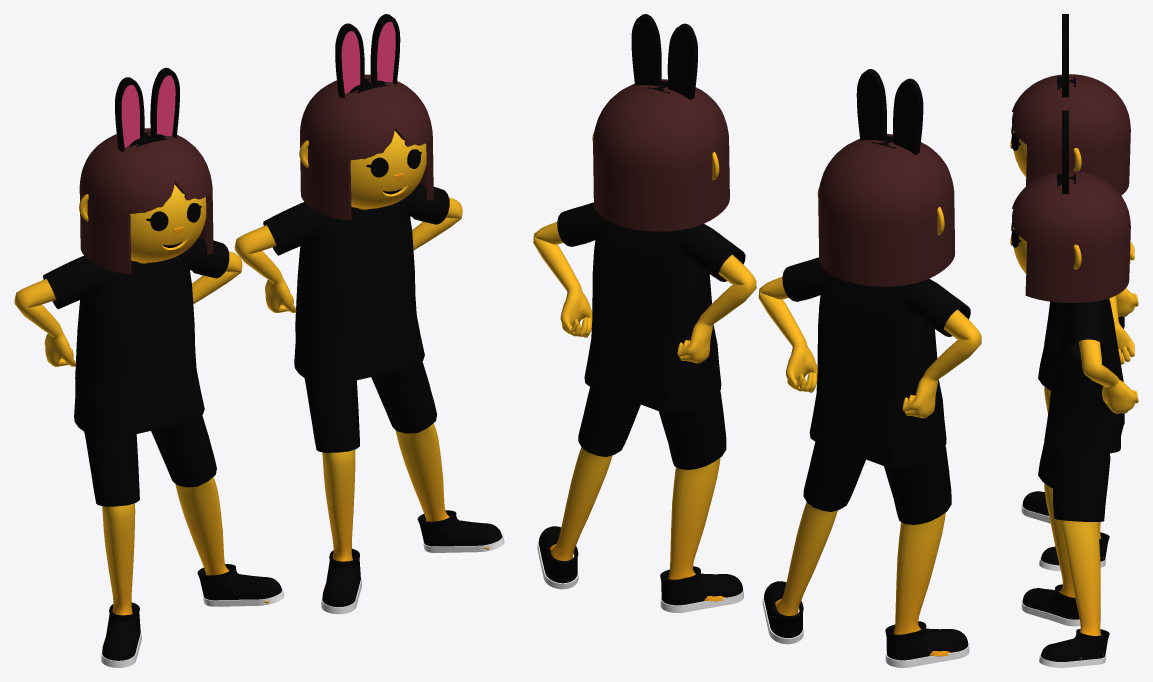
File: women_with_bunny_ears.fbx
The picture shows the model from 3 angles, left to right: view 1: azimuth 30°, elevation 25°; view 2: azimuth 150°, elevation 25°; view 3: azimuth 270°, elevation 25°; orthographic projection. The views are drawn at different scales.
Parts seen in each view (by area): view 1: Circle.1293, Circle.1286, Roundcube.284, Roundcube.282, Cube.3434, Cube.3435, Roundcube.283, Roundcube.280, Sphere.242, Sphere.238, Sphere.239, Sphere.243; view 2: Circle.1293, Circle.1286, Roundcube.284, Roundcube.282, Cube.3435, Cube.3434, Sphere.239, Sphere.243, Sphere.242, Sphere.238; view 3: Circle.1293, Roundcube.284, Roundcube.282, Circle.1286, Sphere.242, Sphere.243, Sphere.239, Sphere.238, Cube.3434, Cube.3435, Roundcube.283, Roundcube.280.
Boxes of the visible parts, x1=… form: Circle.1293: x1=234, y1=183, x2=489, y2=593; Circle.1286: x1=14, y1=237, x2=269, y2=647; Roundcube.284: x1=300, y1=74, x2=433, y2=220; Roundcube.282: x1=79, y1=128, x2=213, y2=274; Cube.3434: x1=150, y1=23, x2=364, y2=138; Cube.3435: x1=115, y1=14, x2=400, y2=152; Roundcube.283: x1=350, y1=131, x2=426, y2=209; Roundcube.280: x1=130, y1=184, x2=206, y2=263; Sphere.242: x1=417, y1=510, x2=504, y2=552; Sphere.238: x1=197, y1=564, x2=284, y2=606; Sphere.239: x1=101, y1=602, x2=141, y2=667; Sphere.243: x1=321, y1=548, x2=361, y2=614; Circle.1293: x1=533, y1=202, x2=756, y2=601; Circle.1286: x1=758, y1=257, x2=981, y2=656; Roundcube.284: x1=593, y1=79, x2=729, y2=231; Roundcube.282: x1=818, y1=134, x2=955, y2=286; Cube.3435: x1=631, y1=14, x2=923, y2=154; Cube.3434: x1=667, y1=23, x2=886, y2=140; Sphere.239: x1=885, y1=621, x2=969, y2=667; Sphere.243: x1=660, y1=566, x2=743, y2=612; Sphere.242: x1=537, y1=526, x2=578, y2=589; Sphere.238: x1=762, y1=581, x2=803, y2=644; Circle.1293: x1=1038, y1=295, x2=1138, y2=658; Roundcube.284: x1=1012, y1=171, x2=1130, y2=302; Roundcube.282: x1=1012, y1=74, x2=1130, y2=195; Circle.1286: x1=1038, y1=241, x2=1138, y2=558; Sphere.242: x1=1039, y1=629, x2=1109, y2=667; Sphere.243: x1=1021, y1=584, x2=1080, y2=626; Sphere.239: x1=1021, y1=491, x2=1050, y2=523; Sphere.238: x1=1039, y1=532, x2=1109, y2=571; Cube.3434: x1=1062, y1=30, x2=1068, y2=127; Cube.3435: x1=1062, y1=14, x2=1068, y2=194; Roundcube.283: x1=1013, y1=226, x2=1026, y2=273; Roundcube.280: x1=1013, y1=129, x2=1026, y2=177.
Bounding box in the file's own units: 195 × 230 × 52.61.
Materials: 1 (1 with a texture image).
